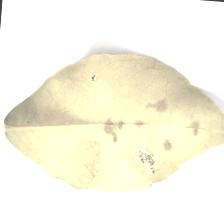black spot: (87, 72, 199, 177)
